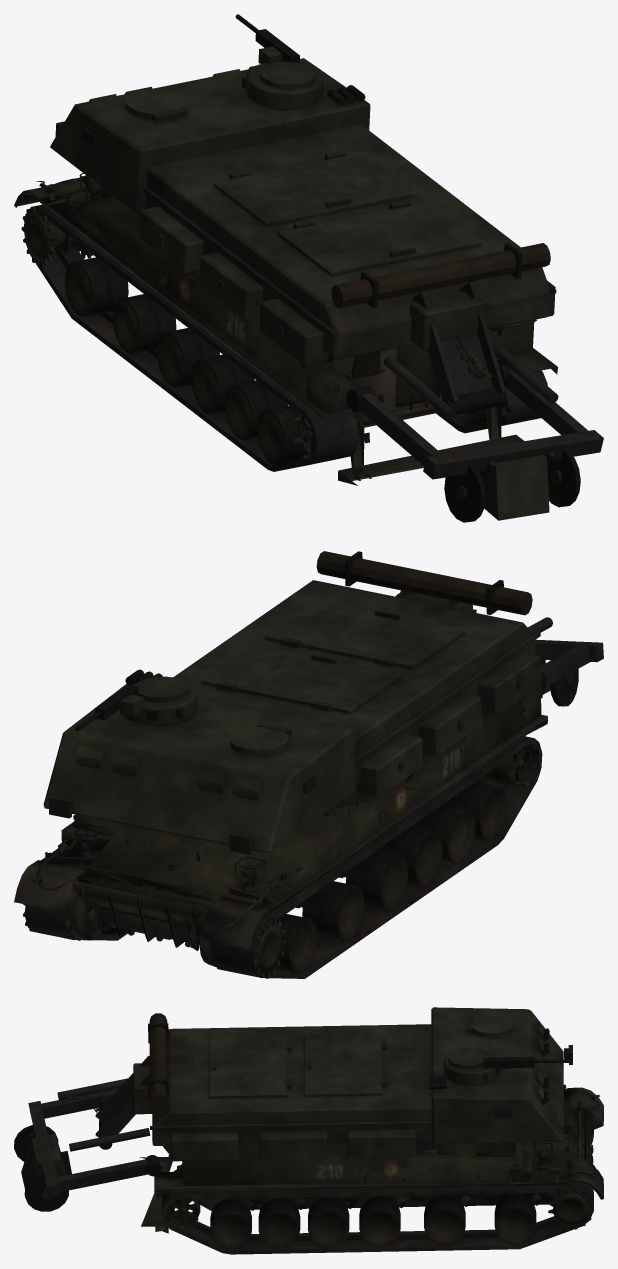
The model's file is mnly-wreck.glb.
The picture shows the model from 3 angles, top to bottom: view 1: azimuth 30°, elevation 25°; view 2: azimuth 150°, elevation 25°; view 3: azimuth 270°, elevation 25°; orthographic projection. The views are drawn at different scales.
Visible parts, largest first — view 1: hull; view 2: hull; view 3: hull.
Part boxes in pixels (<box>): hull: <box>14,14,603,522</box>; hull: <box>14,551,603,978</box>; hull: <box>14,1007,603,1254</box>.
Bounding box in the file's own units: 3.2 × 2.99 × 8.68.
Materials: 1 (1 with a texture image).
